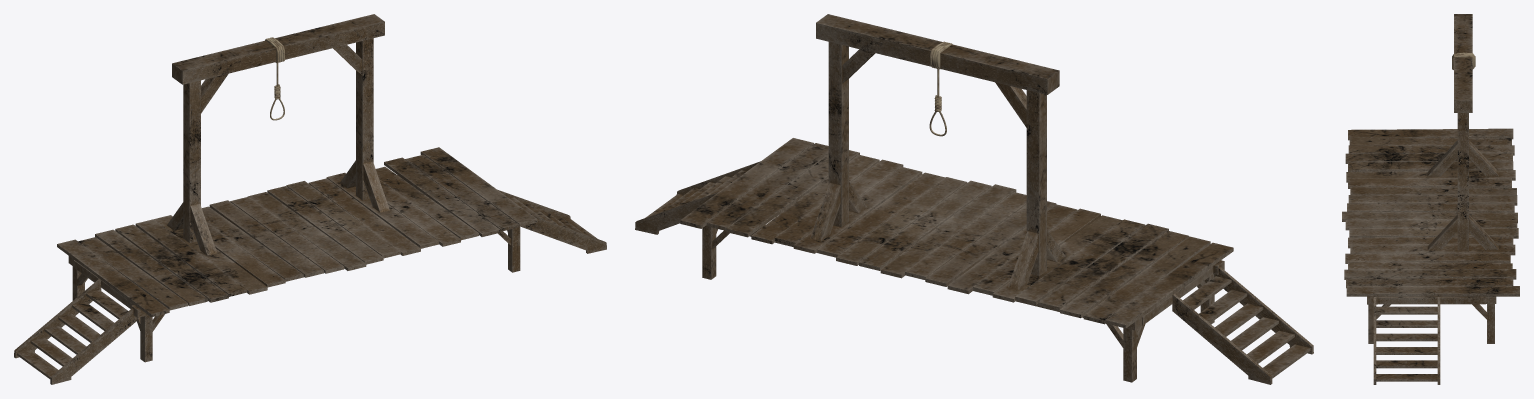
Rendered from Gallows.fbx.
3 views of the same model, side by side, from view 1: azimuth 30°, elevation 25°; view 2: azimuth 150°, elevation 25°; view 3: azimuth 270°, elevation 25° (orthographic). The views are drawn at different scales.
Visible parts, largest first — view 1: Structure, Rope; view 2: Structure, Rope; view 3: Structure, Rope.
Part boxes in pixels (<box>): Structure: <box>14,14,606,384</box>; Rope: <box>265,37,284,120</box>; Structure: <box>635,14,1313,384</box>; Rope: <box>929,41,952,136</box>; Structure: <box>1342,14,1519,384</box>; Rope: <box>1452,52,1475,69</box>.
Size of the model in its own units: 1579 by 651 by 498.
Materials: 2 (2 with a texture image).
